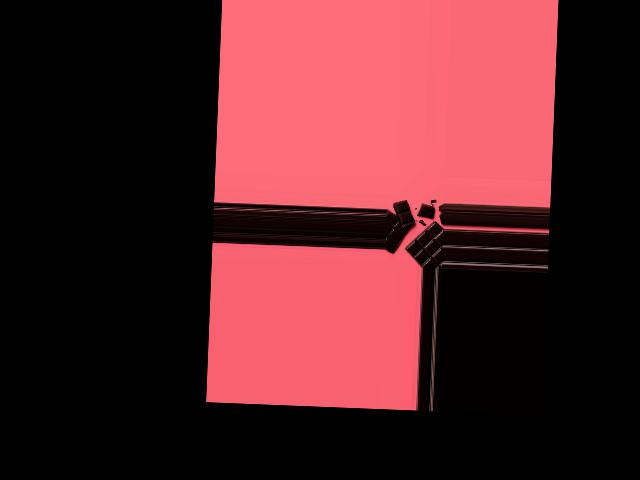chocolate: (388, 203, 444, 269)
